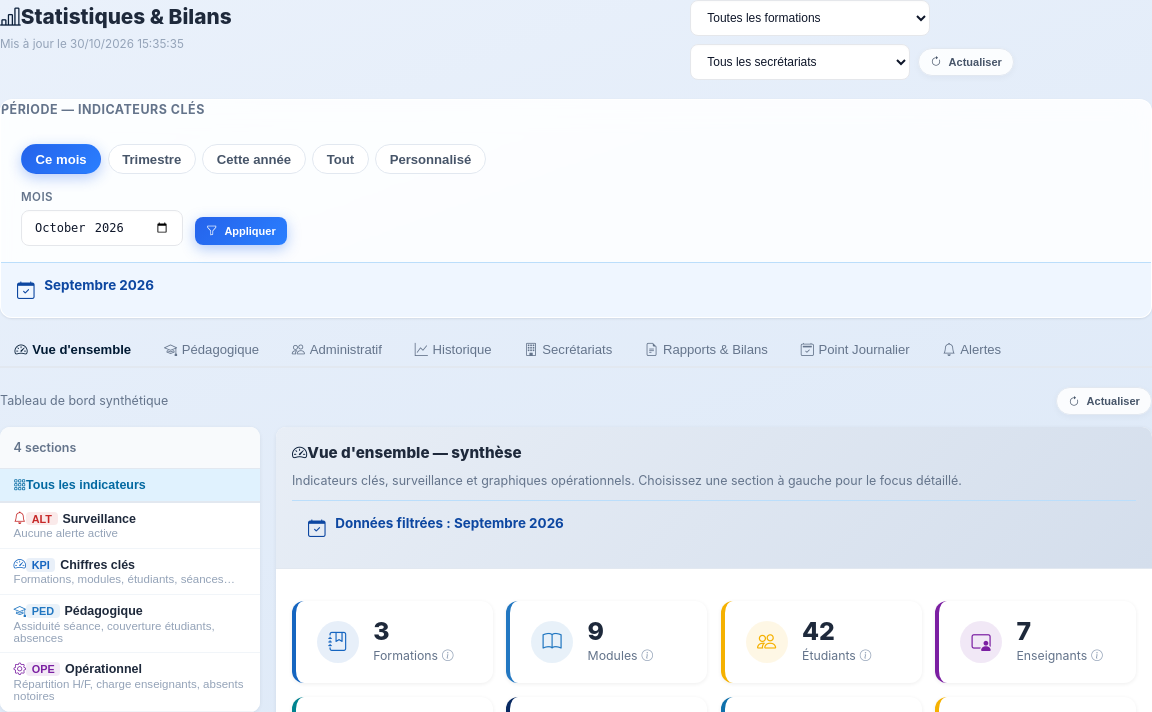
Statistiques (LOT 38a) — socle : onglets, sections API et navigation › charge la liste des secrétariats via l’endpoint dédié à l’ouverture de l’onglet
The image size is (1152, 712).
Expected: the text "4 sections" is shown, [0,428,260,469]
What coordinates should you click on to do the following:
click the button "Secrétariats"
I would click on:
 (568, 351)
Its box is [510,334,627,368].
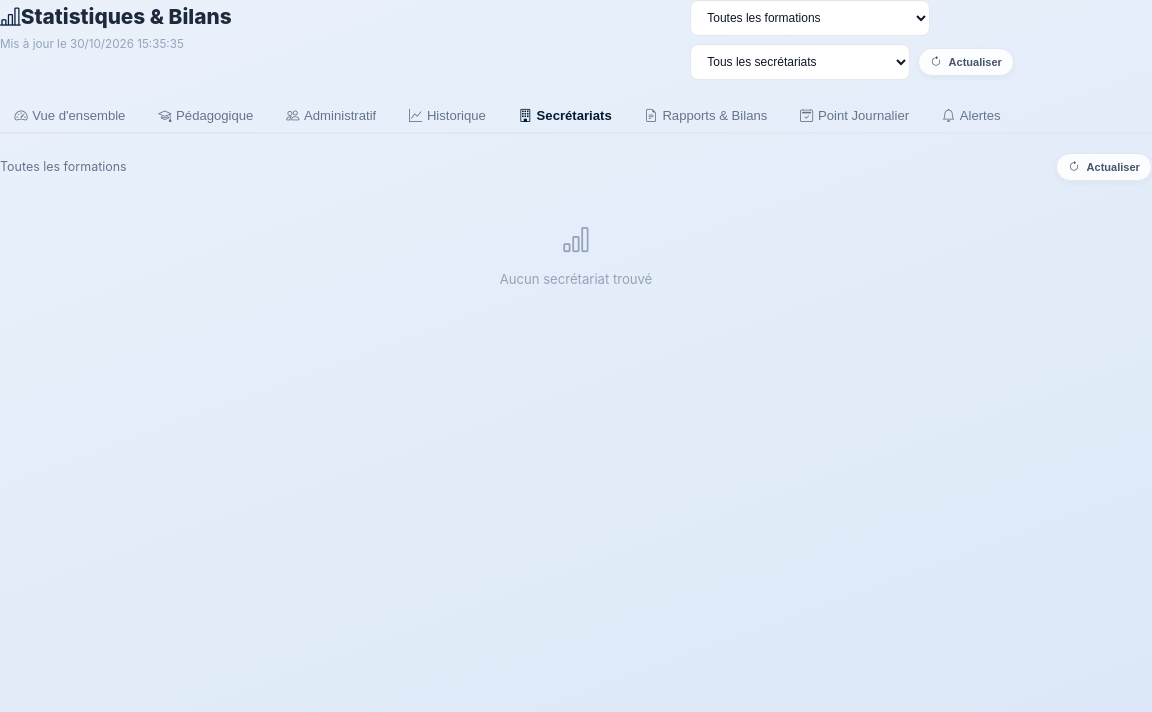
Expected: the text "Aucun secrétariat trouvé" is shown, [24,217,1128,288]
